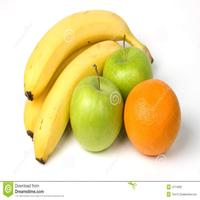apple: (74, 69, 123, 157), (106, 43, 154, 94)
banane: (22, 9, 94, 161)
orange: (125, 76, 189, 162)
